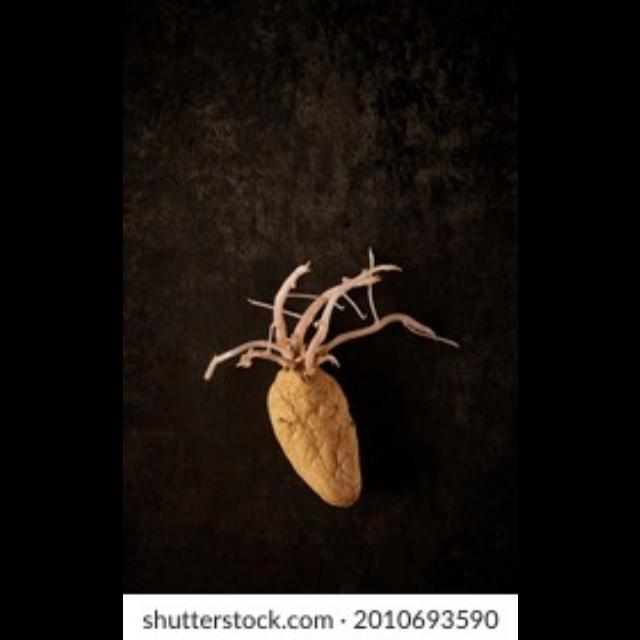Sprouted potato: (194, 254, 452, 522)
